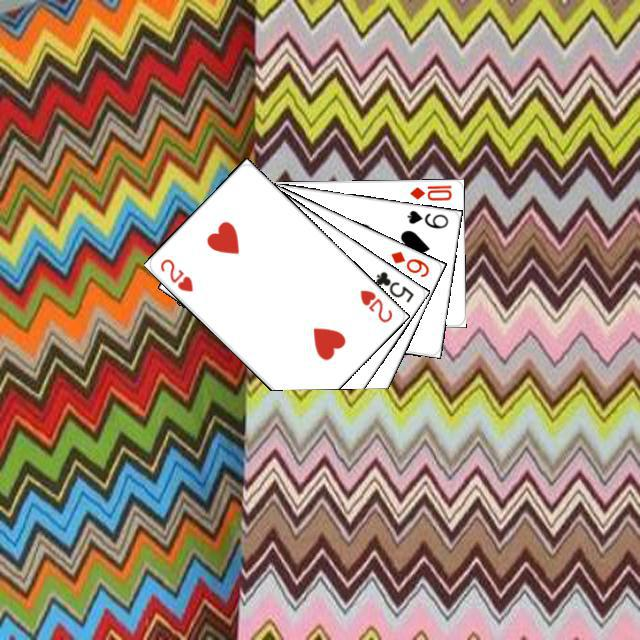10d: (405, 181, 453, 202)
2h: (155, 253, 195, 294), (355, 285, 394, 324)
5c: (370, 266, 415, 304)
6d: (386, 246, 431, 279)
9s: (402, 205, 450, 230)
